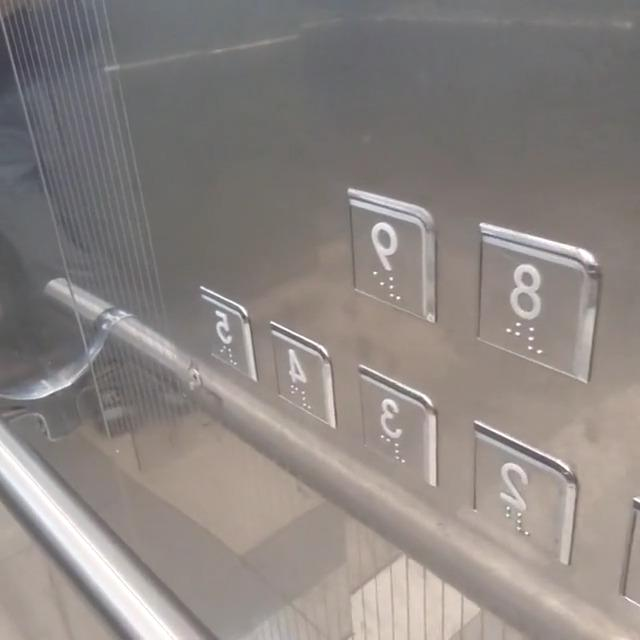button: (468, 241, 594, 368), (470, 452, 579, 542), (341, 210, 423, 312), (352, 376, 422, 477), (256, 341, 334, 428), (189, 298, 251, 380)
